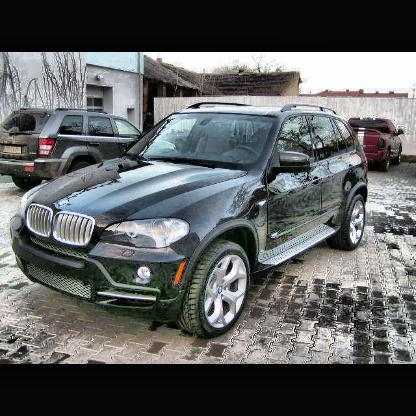BMW X5 SUV 2007: (13, 103, 368, 338)
